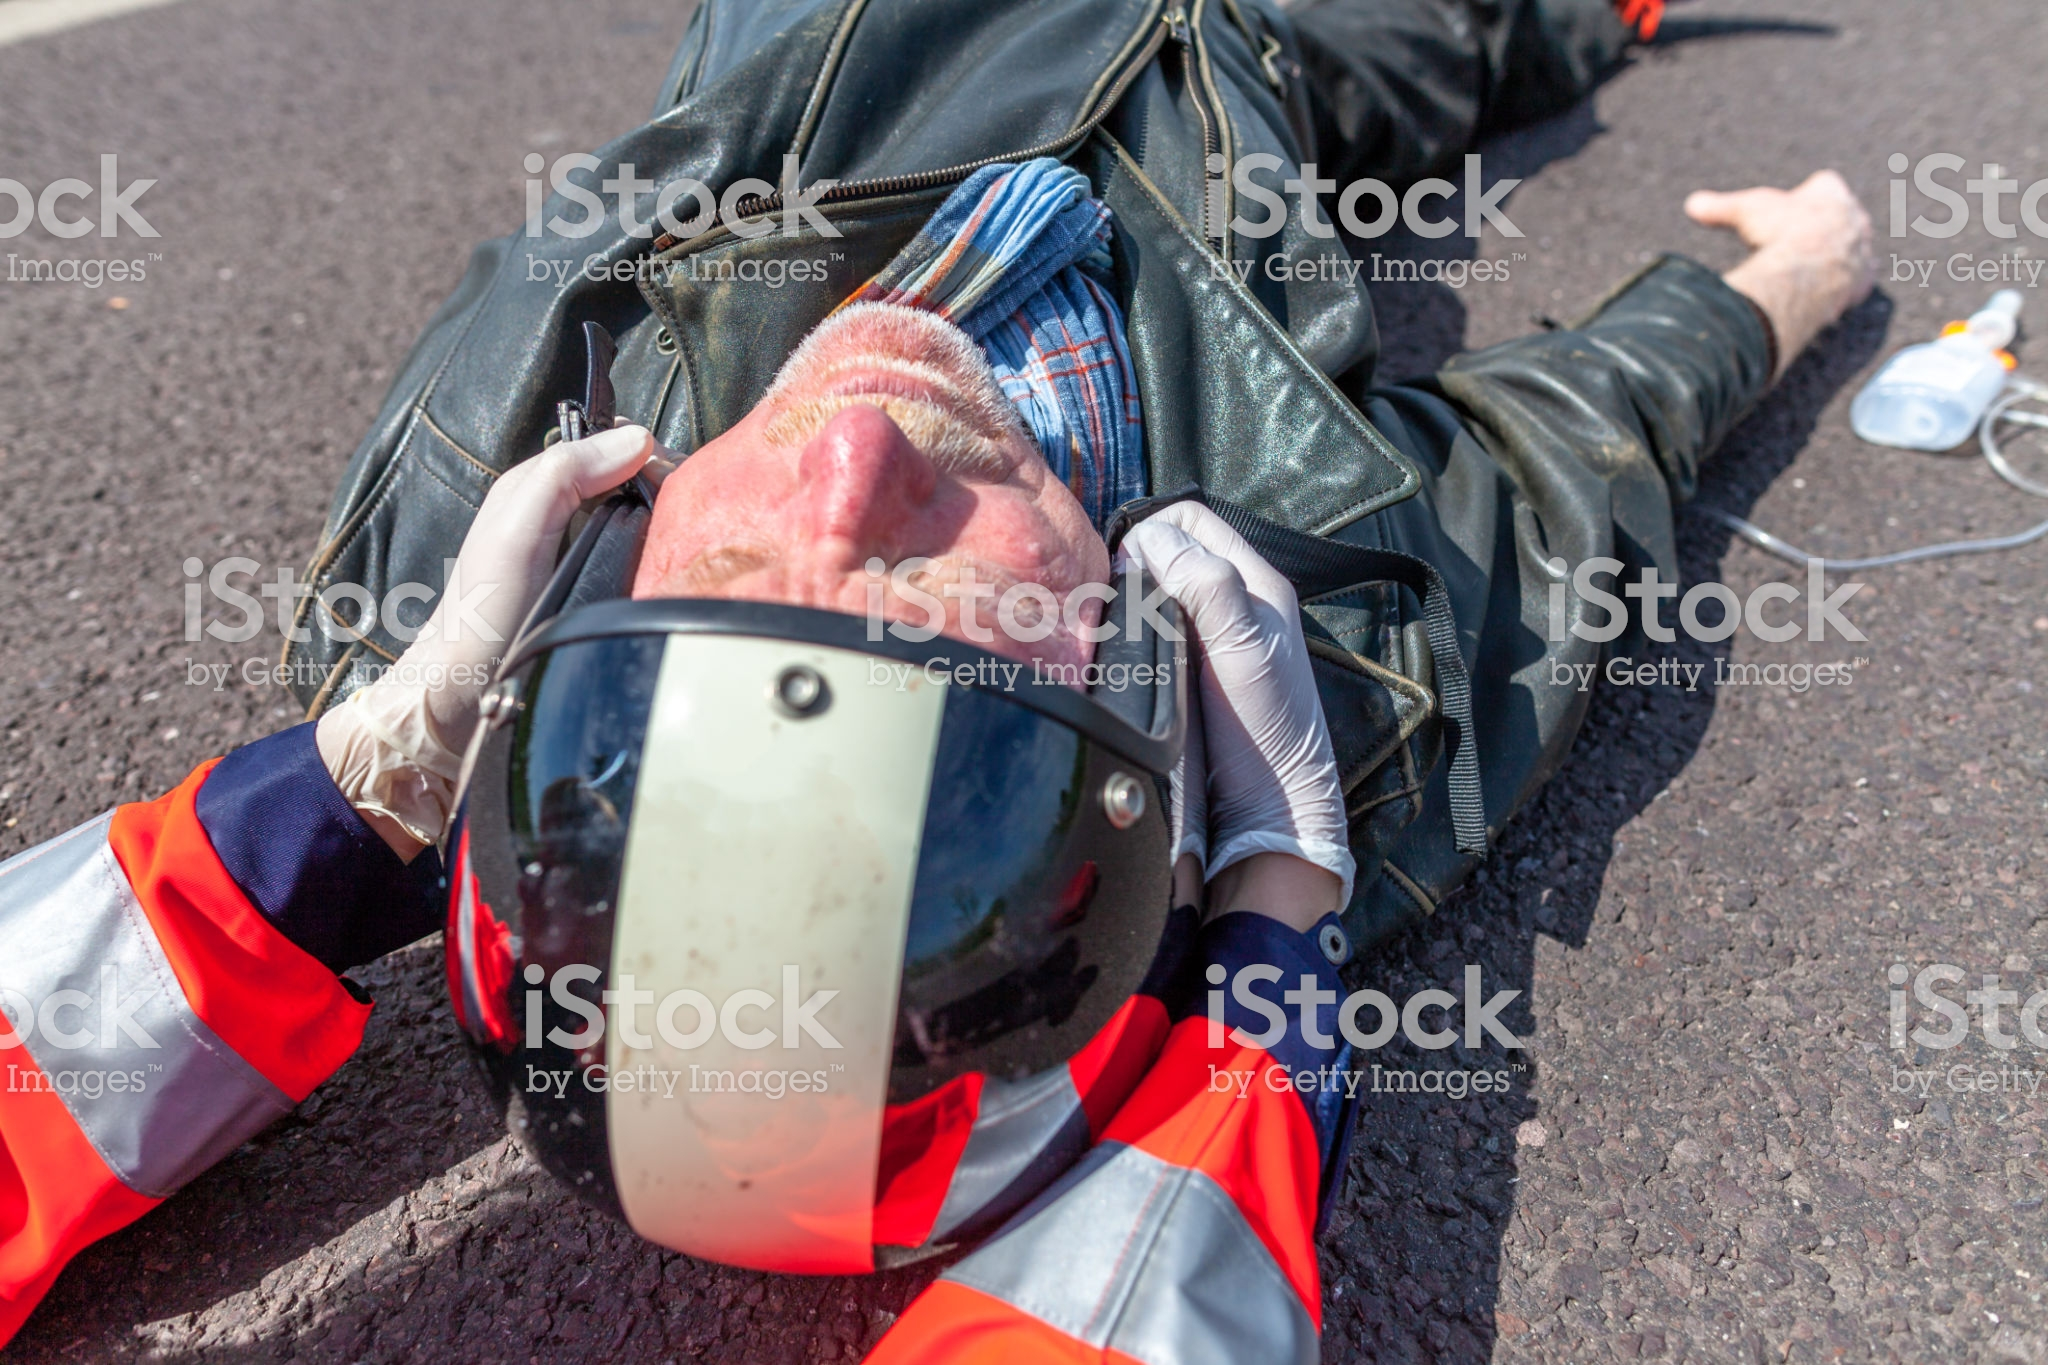helmet: (423, 539, 1236, 1239)
